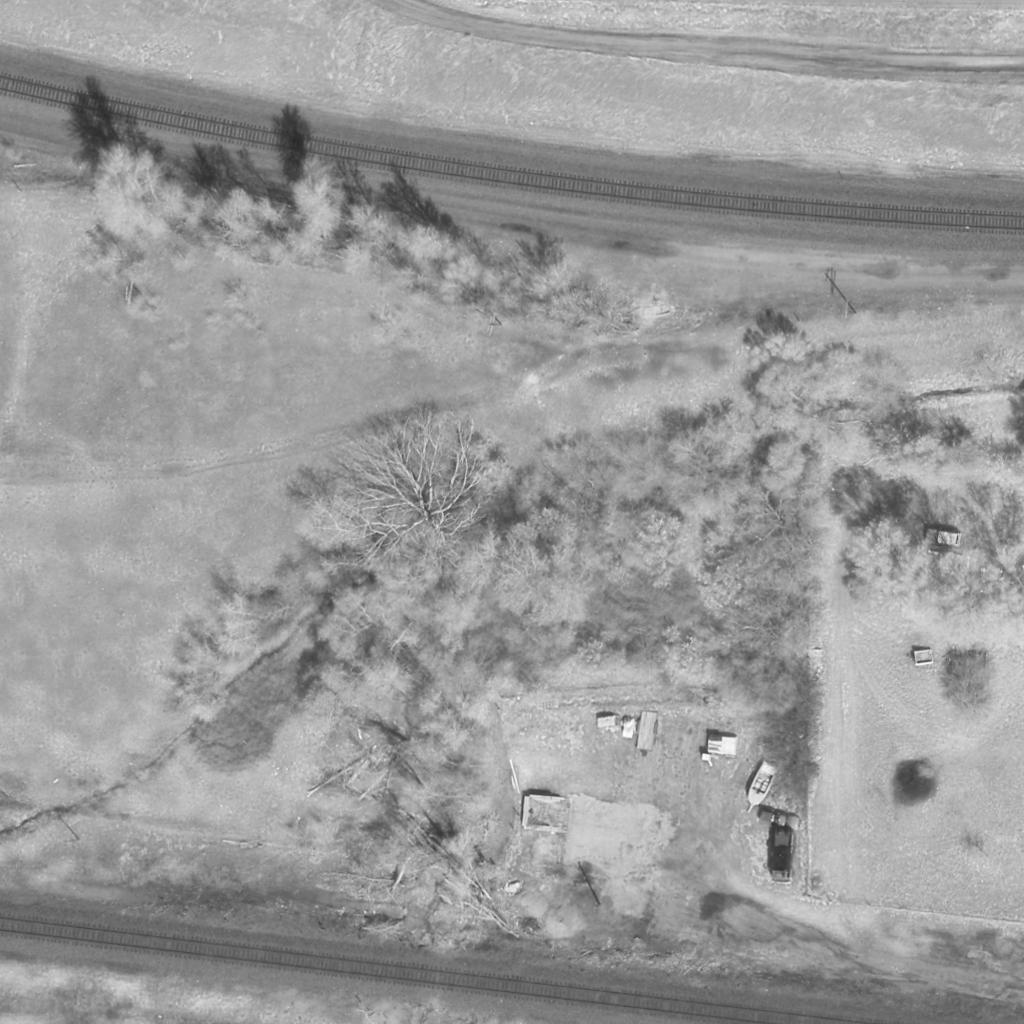vehicle: (744, 761, 778, 811), (775, 828, 795, 882), (757, 812, 805, 830), (925, 530, 963, 546)
